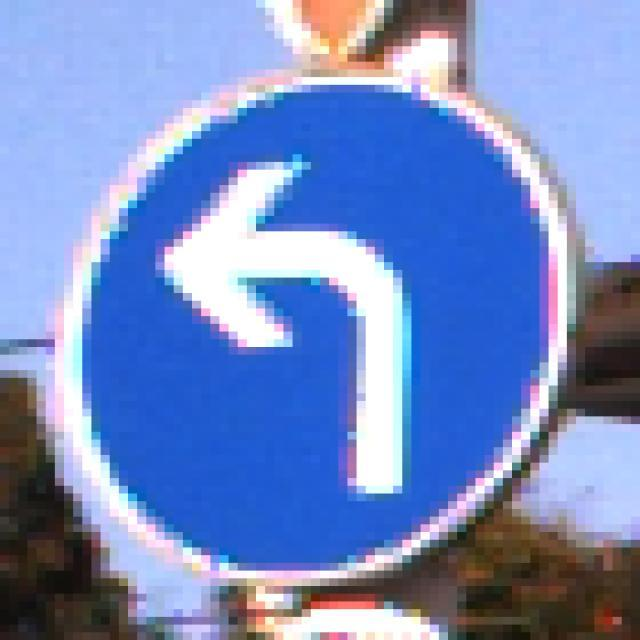compulsary turn left ahead: (58, 81, 574, 577)
